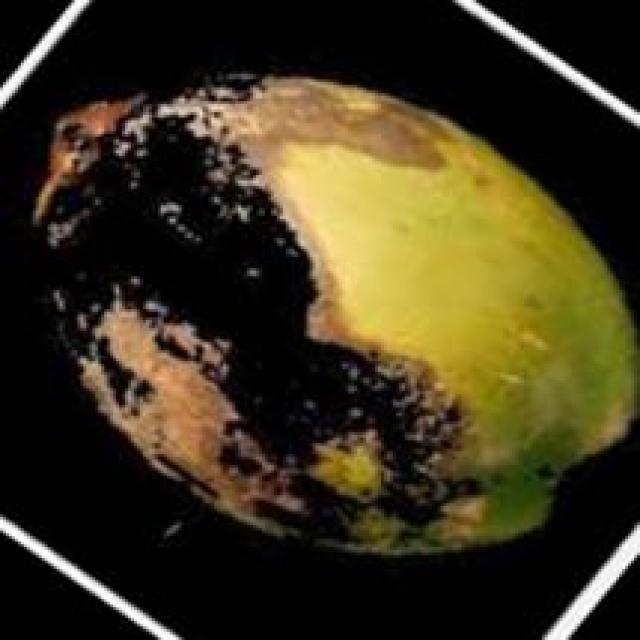damaged: (33, 71, 637, 550)
